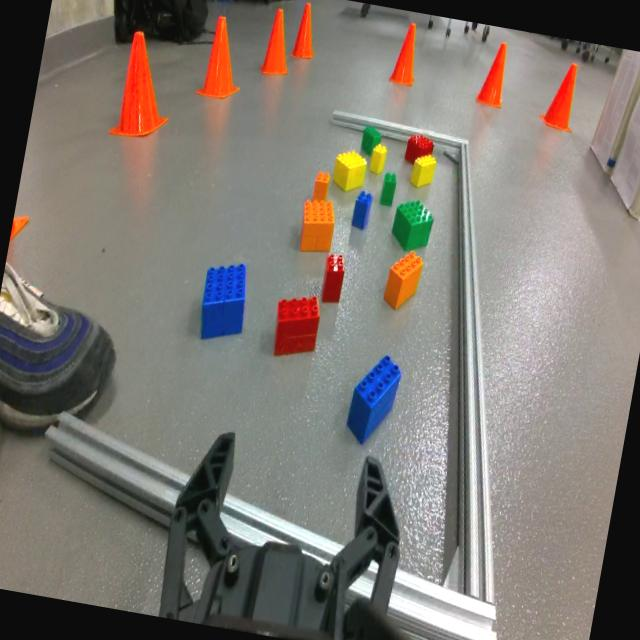block: (331, 148, 368, 194), (410, 152, 436, 188), (368, 143, 388, 173)
blue: (344, 348, 400, 446), (194, 255, 254, 344), (350, 188, 372, 230)
cone: (106, 25, 184, 146), (195, 12, 252, 104), (539, 56, 582, 133), (472, 40, 512, 106), (259, 6, 294, 80), (386, 20, 422, 87), (292, 0, 322, 57), (8, 208, 30, 248)
green: (389, 194, 436, 252), (379, 171, 397, 208), (360, 126, 381, 154)
metal barrier: (44, 108, 498, 640)
orange: (382, 245, 422, 310), (297, 195, 337, 253), (312, 170, 331, 201)
red goal: (268, 288, 324, 366), (318, 250, 346, 304), (404, 132, 435, 166)
storage cube: (583, 45, 640, 183), (601, 56, 640, 230)
